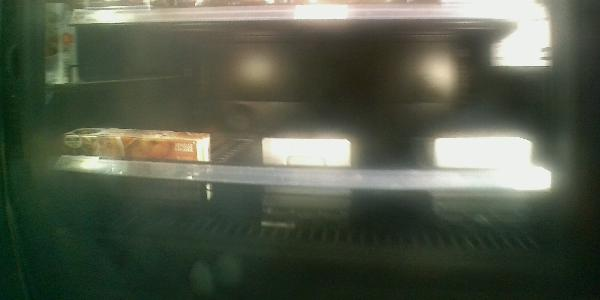icecream: (58, 119, 218, 167), (414, 128, 545, 169), (258, 131, 357, 173)
